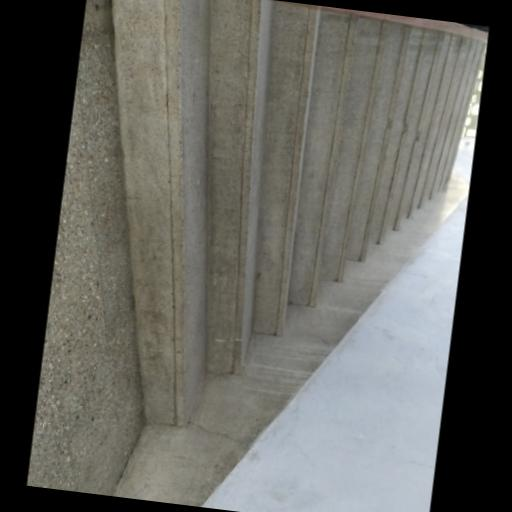stairs: (111, 0, 483, 424)
